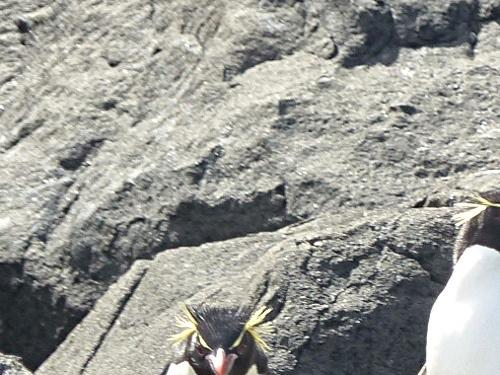Southern Rockhopper Penguin: (67, 278, 336, 375), (382, 161, 500, 375)
